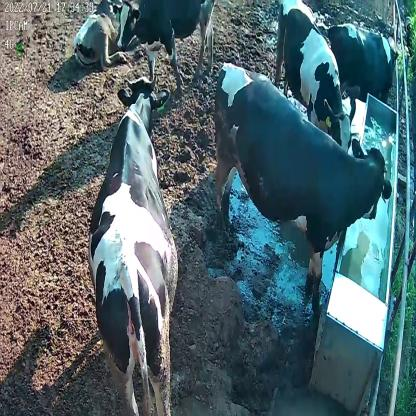cow: (213, 60, 392, 321), (88, 77, 177, 416), (274, 3, 356, 154), (114, 0, 217, 85), (318, 21, 398, 107)
